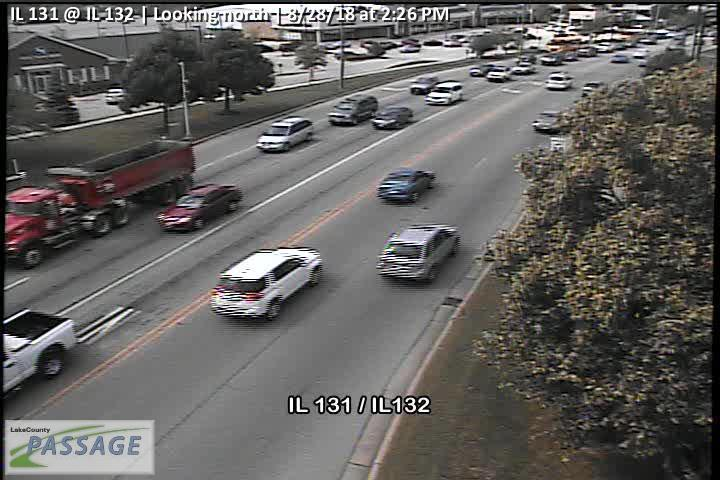Sedan: (207, 244, 324, 321), (374, 221, 461, 285), (153, 183, 242, 232), (255, 115, 313, 154), (375, 167, 435, 203), (327, 93, 379, 125), (369, 104, 414, 130), (410, 73, 440, 95), (544, 70, 574, 90), (582, 79, 609, 98), (485, 64, 513, 82), (104, 86, 125, 103), (468, 63, 492, 76)
Truck: (1, 137, 196, 268), (423, 79, 465, 107)
